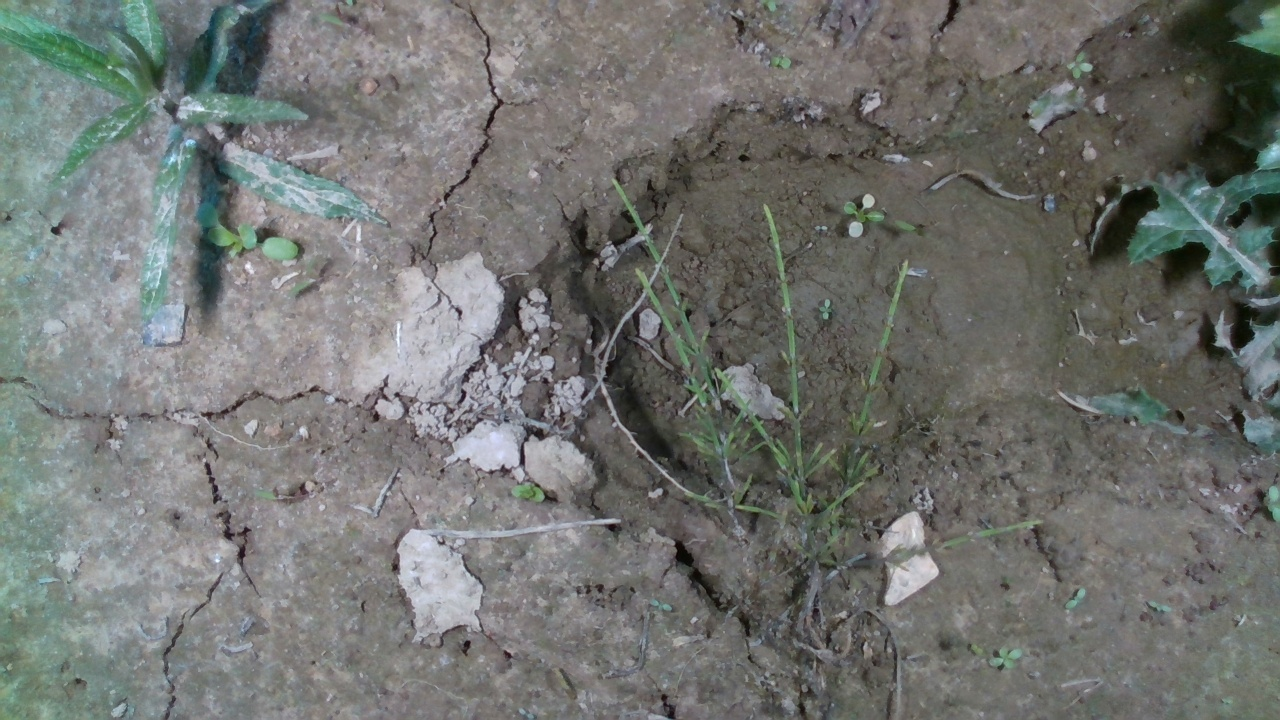weed: (840, 191, 889, 234), (984, 646, 1025, 669), (506, 480, 547, 503), (1062, 587, 1088, 610), (815, 298, 834, 319), (1146, 600, 1175, 612), (967, 642, 984, 656)
